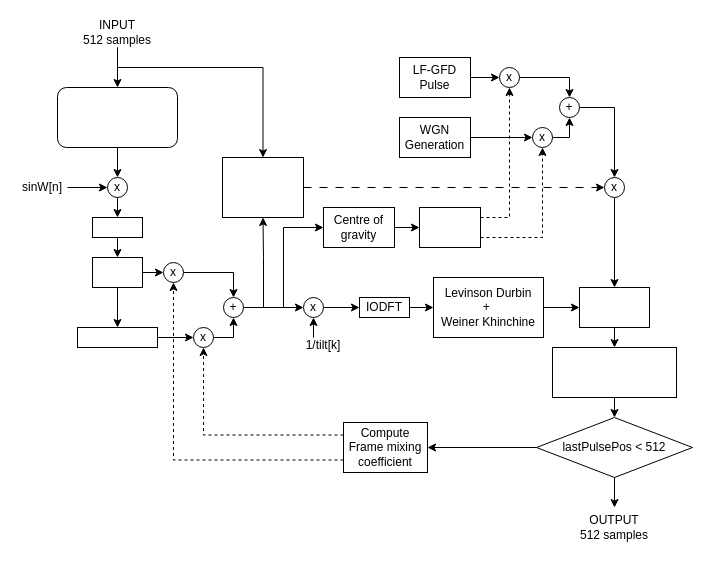
Some shapes in this 710 by 564 pixel diagram are drawn without their labels. The shapes that lost their labels are listed below. From the top down, each one's centre as x and y in pixels, then its label:
At [117,117]: "Concatenate IN-OLD | IN-NEW".
At [263,187]: "Whispered activity detection".
At [117,227]: "ODFT".
At [449,227]: "Mapping".
At [117,272]: "|X[k]|²".
At [614,307]: "IIR Filter".
At [117,337]: "PSD buffer".
At [614,372]: "Add to main buffer lastPulsePos += lastPulseLen".
